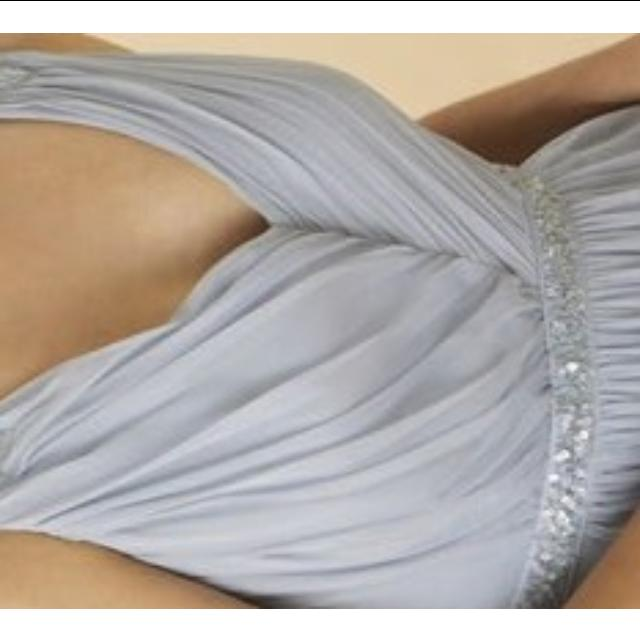polyester: (1, 32, 550, 608)
